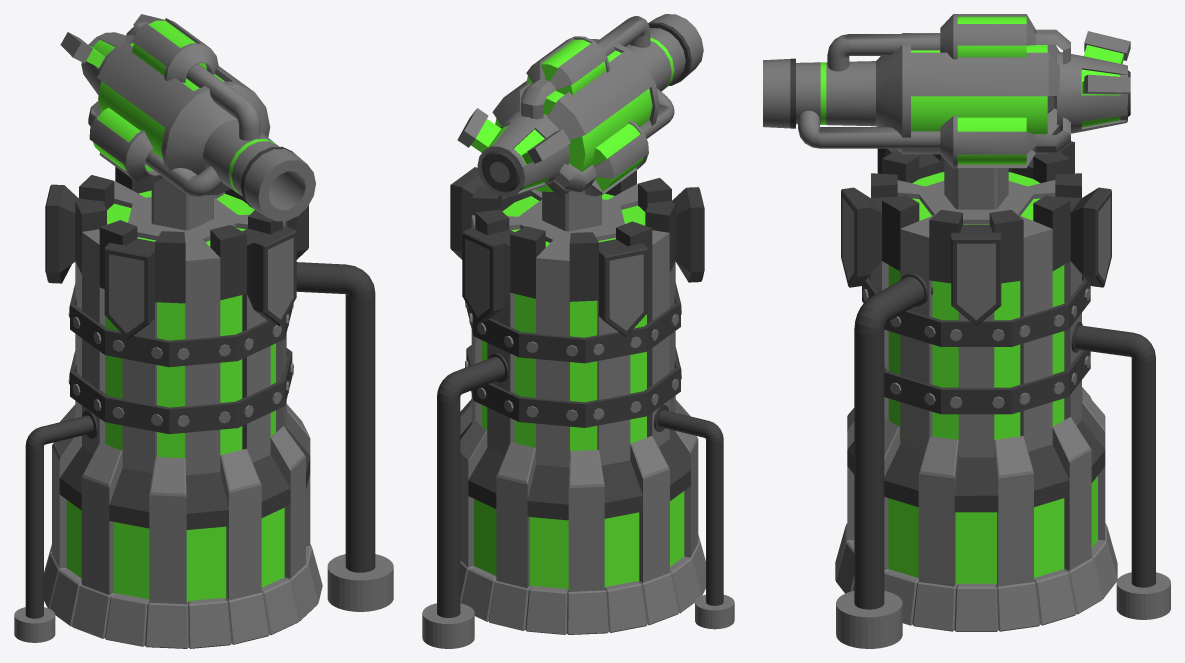
File: PoisonTower2.fbx
3 renders of one model, left to right at view 1: azimuth 30°, elevation 25°; view 2: azimuth 150°, elevation 25°; view 3: azimuth 270°, elevation 25°, orthographic. The views are drawn at different scales.
Visible parts, largest first — view 1: Tower, shotpoint, senter; view 2: Tower, shotpoint, senter; view 3: Tower, shotpoint, senter.
Boxes of the visible parts, bbox=[...] form: Tower: bbox=[14, 167, 393, 648]; shotpoint: bbox=[60, 14, 315, 221]; senter: bbox=[98, 43, 224, 158]; Tower: bbox=[422, 167, 734, 648]; shotpoint: bbox=[457, 14, 703, 196]; senter: bbox=[495, 50, 652, 191]; Tower: bbox=[835, 141, 1170, 648]; shotpoint: bbox=[763, 14, 1130, 168]; senter: bbox=[911, 45, 1047, 134].
Bounding box in the file's own units: 172 × 291 × 189.
